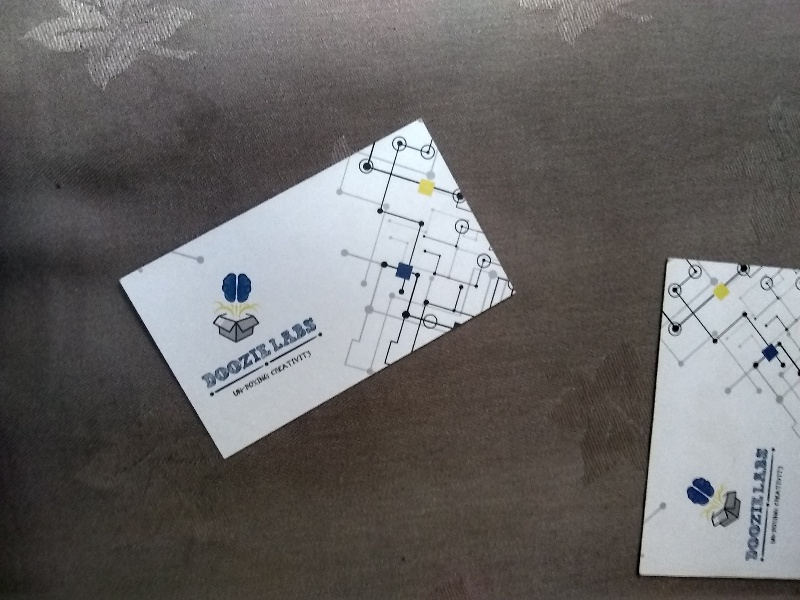back: (112, 111, 521, 465)
